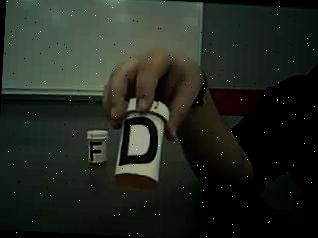Bottle D: (116, 94, 168, 195)
Bottle F: (84, 126, 112, 167)
